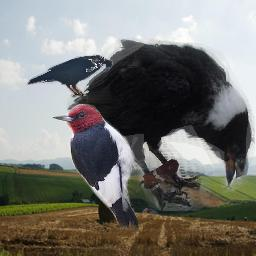Crow: (67, 38, 255, 211), (26, 54, 113, 99)
Woodpecker: (52, 104, 138, 230)
